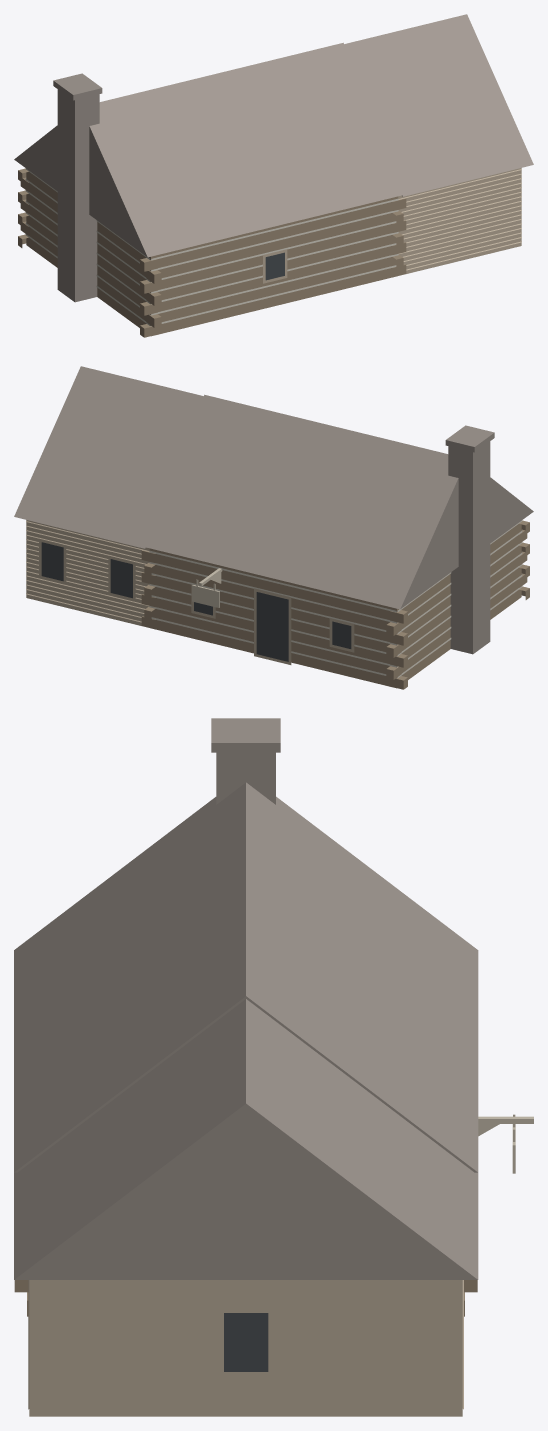
The model's file is wolf_point_tavern__log_frame_1828.glb.
3 views of the same model, one above another, from view 1: azimuth 30°, elevation 25°; view 2: azimuth 150°, elevation 25°; view 3: azimuth 270°, elevation 25° (orthographic). The views are drawn at different scales.
Parts seen in each view (by area): view 1: wolf_point_tavern__log_frame_1828; view 2: wolf_point_tavern__log_frame_1828; view 3: wolf_point_tavern__log_frame_1828.
Part boxes in pixels (x1,y1,x2,y2): wolf_point_tavern__log_frame_1828: [14, 14, 533, 337]; wolf_point_tavern__log_frame_1828: [14, 366, 533, 689]; wolf_point_tavern__log_frame_1828: [14, 718, 533, 1416].
Bounding box in the file's own units: 13.07 × 6.53 × 8.4.
